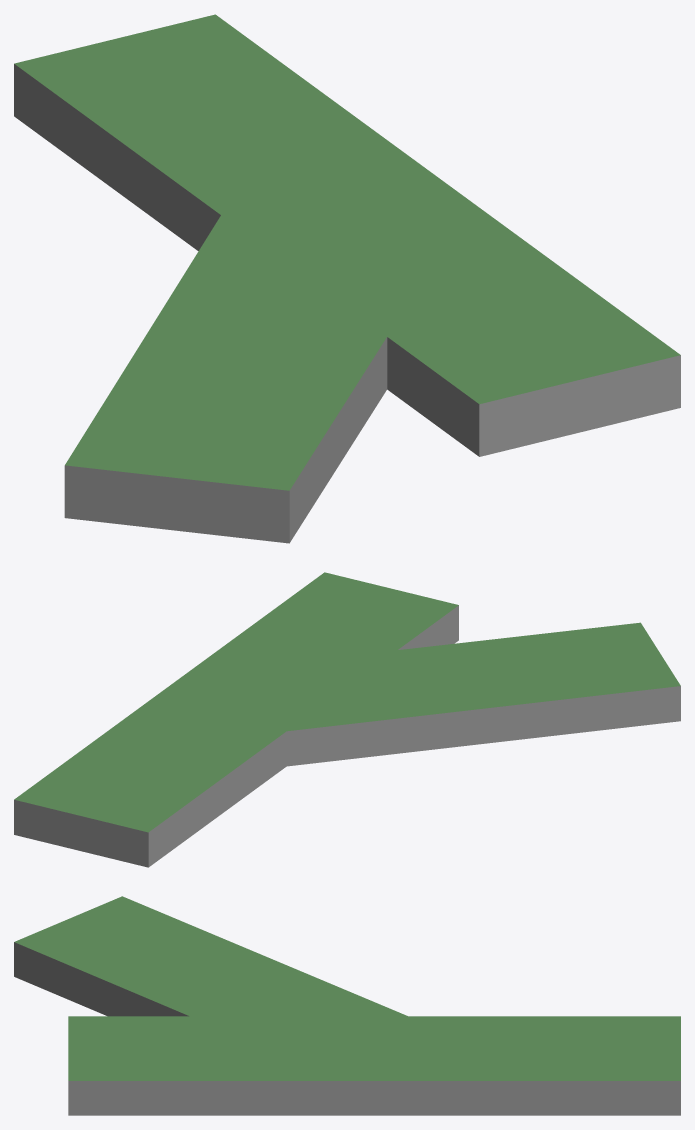
Rendered from Lab_block_DiagonalCorner_3.fbx.
3 renders of one model, top to bottom at view 1: azimuth 30°, elevation 25°; view 2: azimuth 150°, elevation 25°; view 3: azimuth 270°, elevation 25°, orthographic. The views are drawn at different scales.
Visible parts, largest first — view 1: DiogonalCorner_3; view 2: DiogonalCorner_3; view 3: DiogonalCorner_3.
Part boxes in pixels (x1=…): DiogonalCorner_3: x1=14, y1=14, x2=680, y2=543; DiogonalCorner_3: x1=14, y1=572, x2=680, y2=867; DiogonalCorner_3: x1=14, y1=896, x2=680, y2=1115.
Size of the model in its own units: 5.71 by 0.5 by 8.71.
